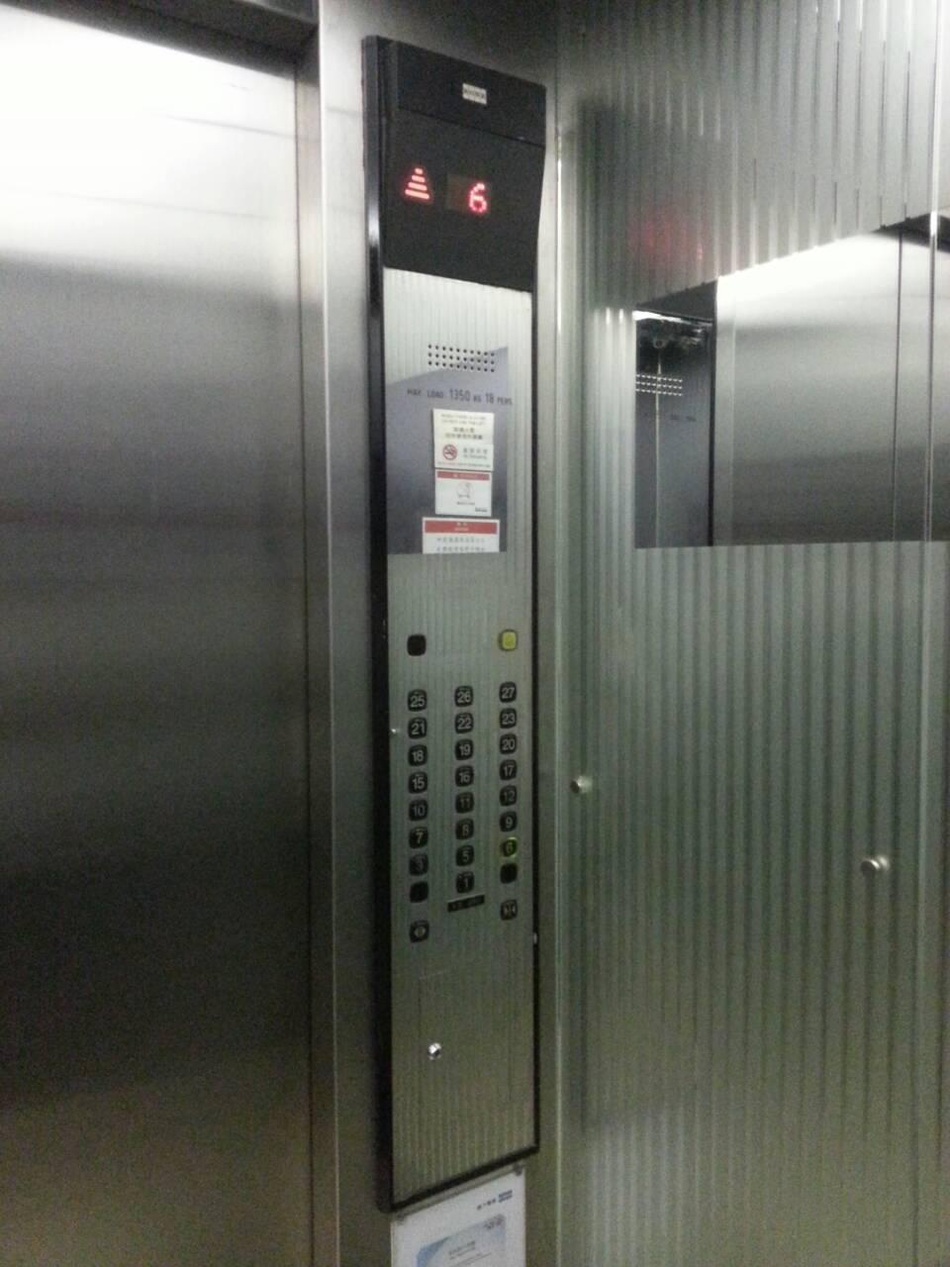1: (452, 868, 475, 893)
10: (406, 795, 429, 821)
11: (452, 788, 475, 813)
12: (496, 782, 518, 806)
15: (406, 768, 428, 793)
16: (452, 762, 474, 787)
17: (496, 756, 518, 780)
18: (406, 741, 428, 765)
19: (452, 735, 474, 760)
20: (497, 730, 519, 753)
21: (405, 714, 428, 738)
22: (452, 709, 474, 733)
23: (496, 705, 518, 729)
25: (405, 685, 428, 711)
26: (452, 682, 474, 706)
27: (496, 678, 518, 702)
3: (406, 849, 429, 875)
5: (452, 840, 475, 865)
6: (497, 834, 519, 858)
7: (406, 823, 429, 848)
8: (452, 815, 475, 839)
9: (496, 808, 518, 831)
alarm: (497, 626, 519, 650)
close: (497, 895, 519, 920)
led: (396, 157, 529, 222)
open: (407, 917, 430, 942)
unknown: (406, 877, 429, 903), (497, 859, 519, 884), (405, 632, 427, 655)
